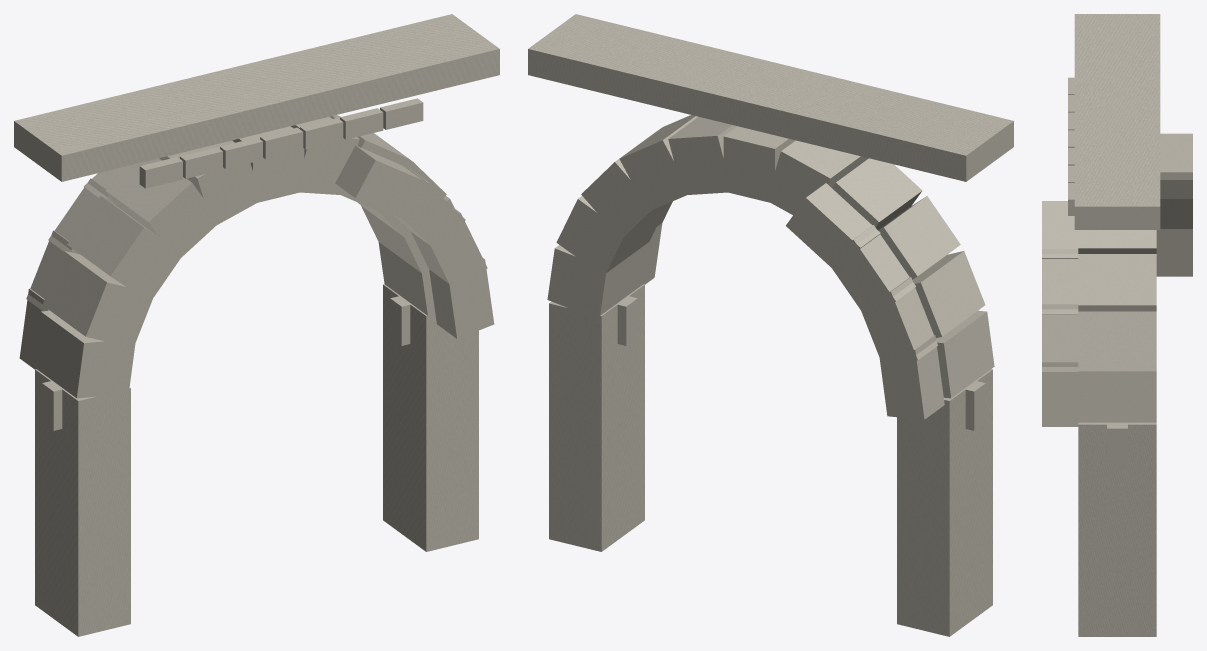
The model's file is cellar-vault-arch.glb.
3 renders of one model, left to right at view 1: azimuth 30°, elevation 25°; view 2: azimuth 150°, elevation 25°; view 3: azimuth 270°, elevation 25°, orthographic. The views are drawn at different scales.
Visible parts, largest first — view 1: cellar-vault-arch-stone; view 2: cellar-vault-arch-stone; view 3: cellar-vault-arch-stone.
Boxes of the visible parts, x1,y1,x2,y2 form: cellar-vault-arch-stone: (14, 14, 499, 636); cellar-vault-arch-stone: (528, 14, 1013, 636); cellar-vault-arch-stone: (1042, 14, 1192, 636).
Bounding box in the file's own units: 3.5 × 3.72 × 1.16.
Materials: 1 (1 with a texture image).
